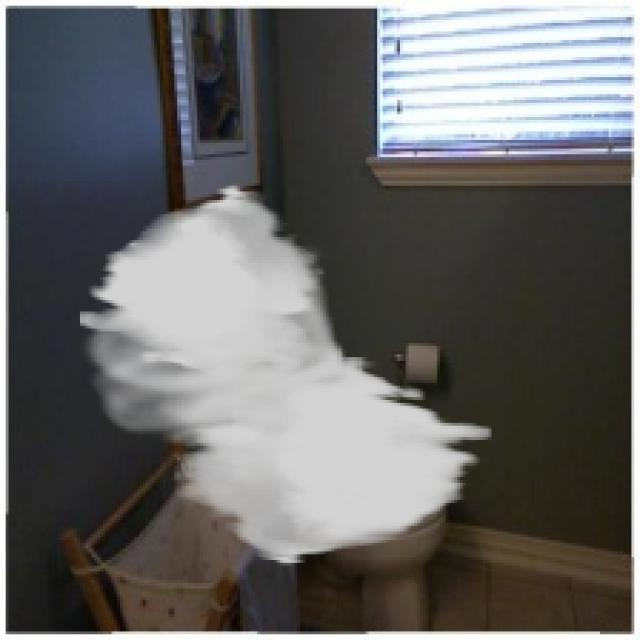Smoke: (77, 183, 492, 566)
